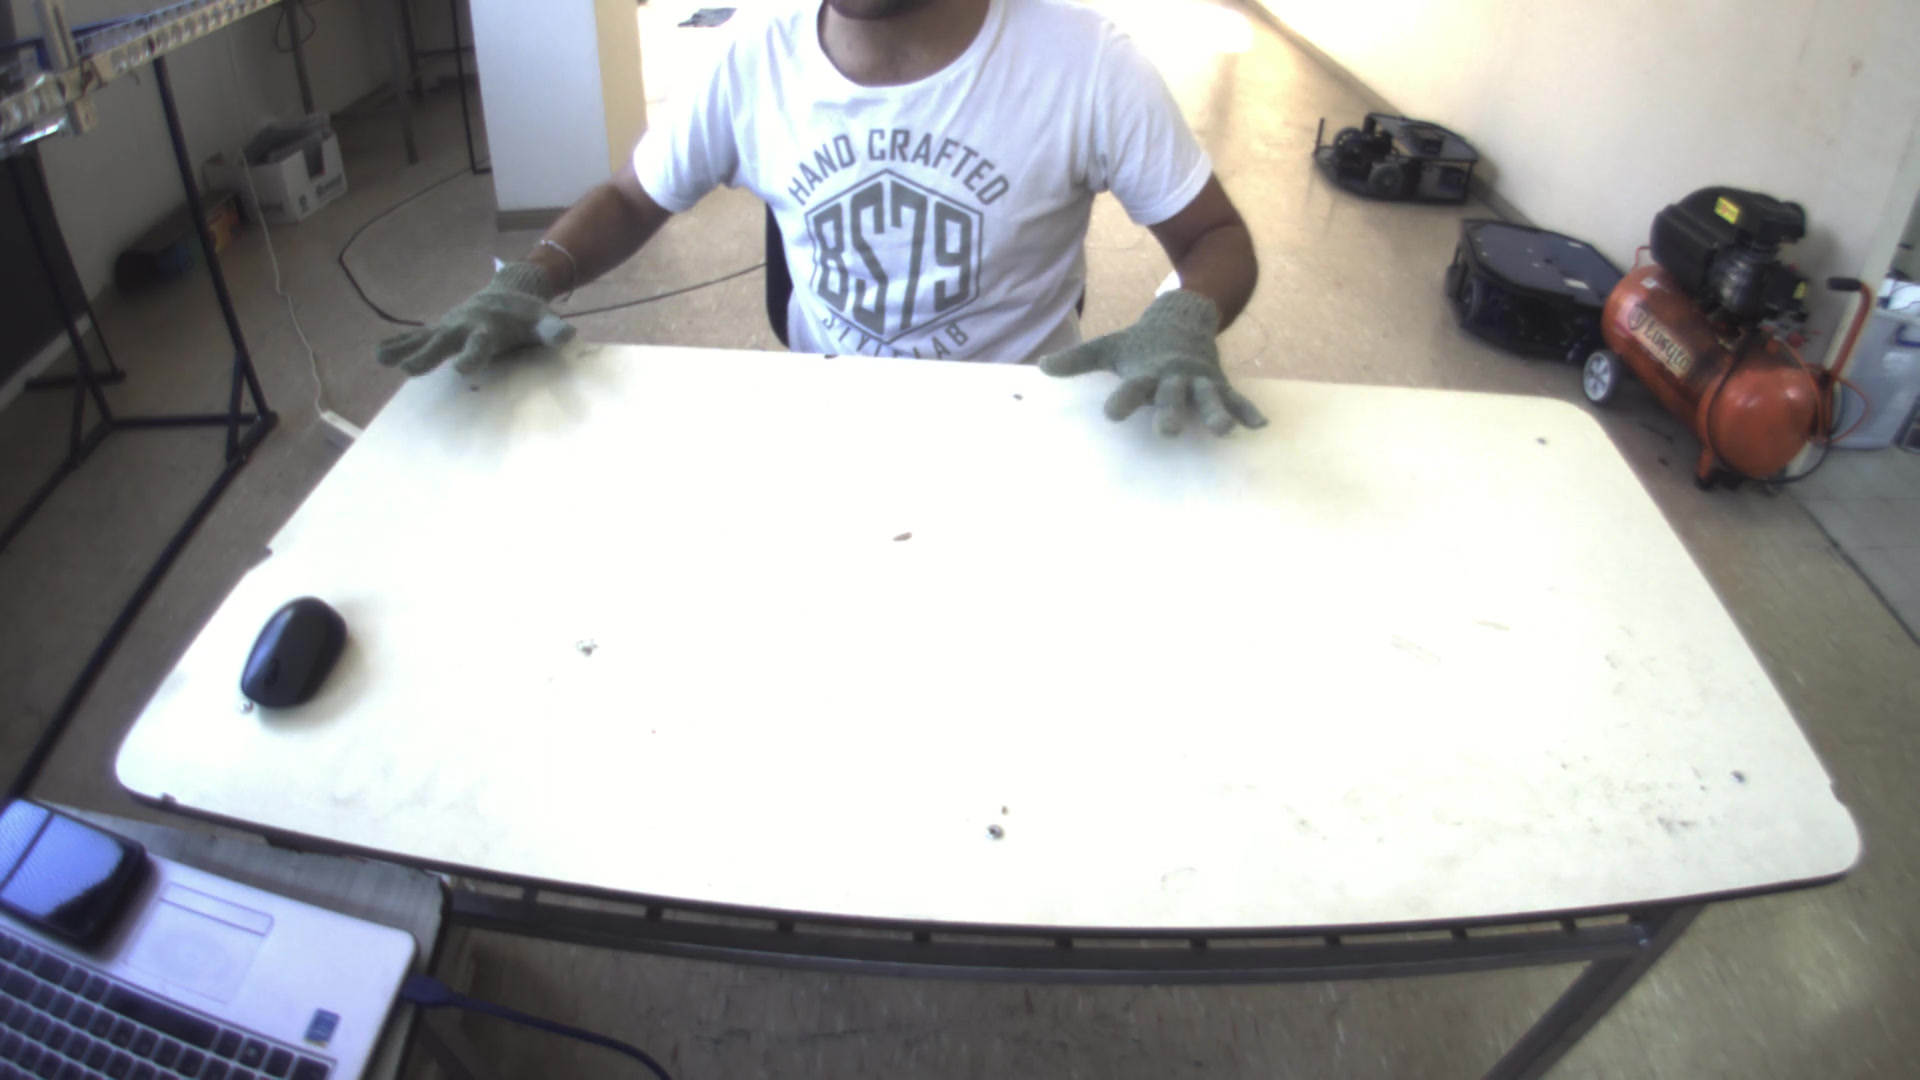hand: (1031, 280, 1282, 443)
handw: (371, 272, 579, 388)
